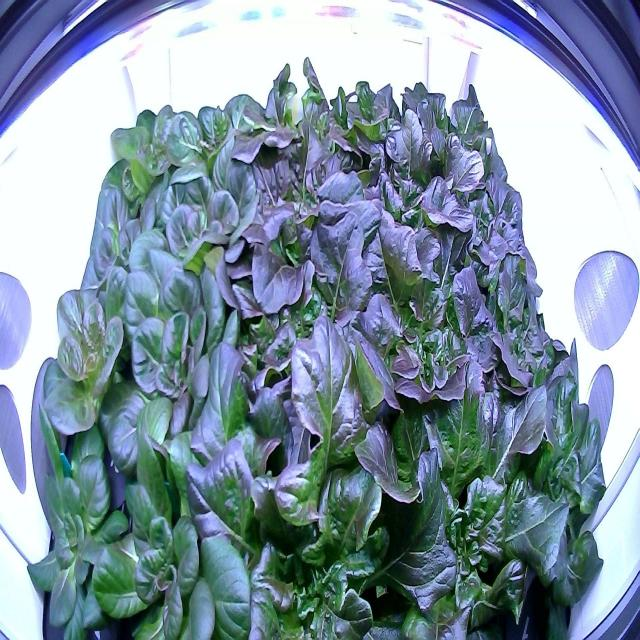young: (102, 249, 260, 498), (86, 428, 270, 638), (14, 400, 157, 639), (31, 258, 166, 474), (131, 137, 269, 302), (68, 163, 184, 340), (161, 77, 280, 248), (92, 88, 189, 234)
